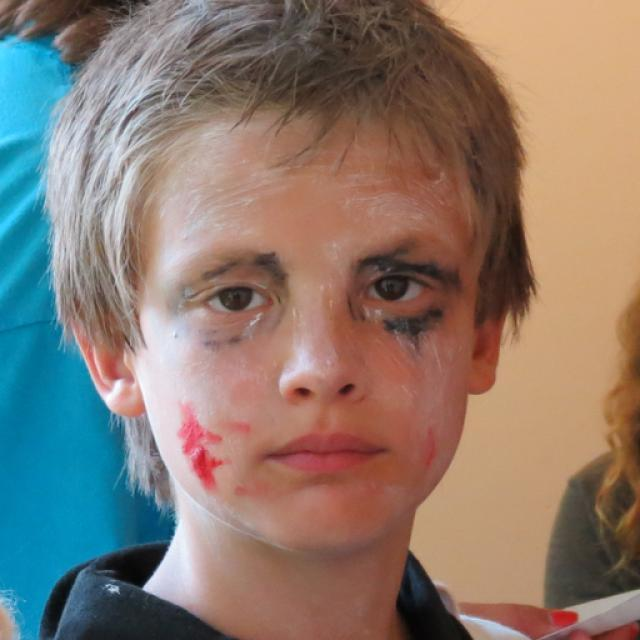sad: (138, 109, 472, 550)
